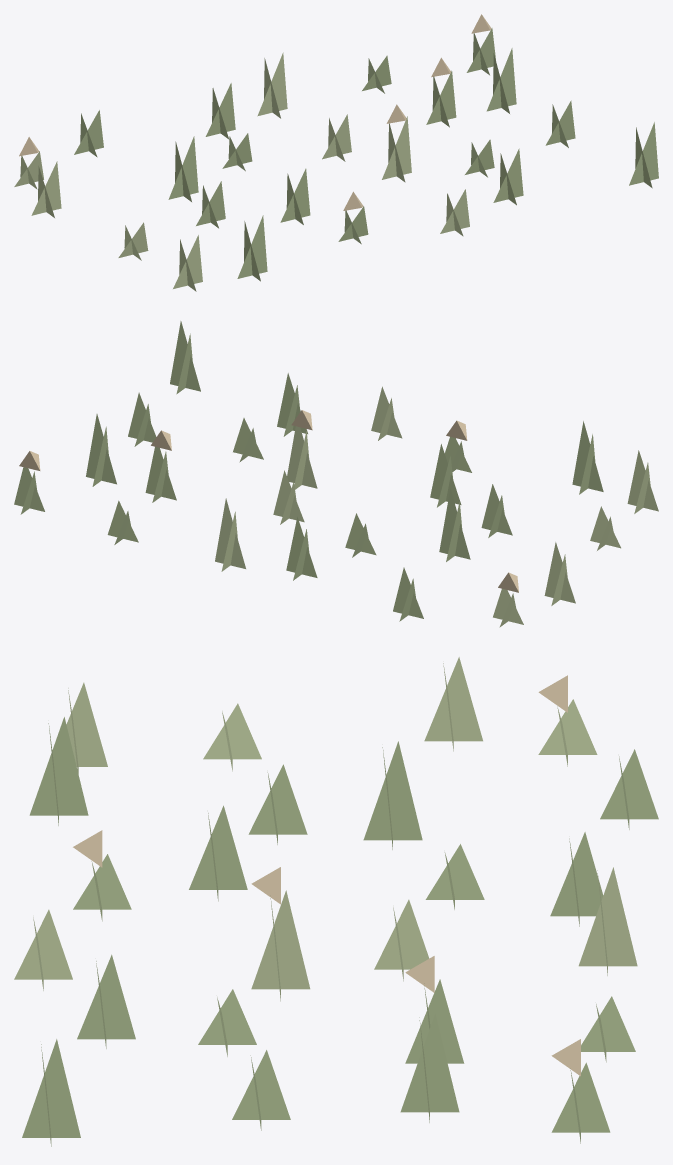
Rendered from meadow-flower-patch.glb.
The picture shows the model from 3 angles, top to bottom: view 1: azimuth 30°, elevation 25°; view 2: azimuth 150°, elevation 25°; view 3: azimuth 270°, elevation 25°; orthographic projection. The views are drawn at different scales.
Visible parts, largest first — view 1: meadow-flower-patch; view 2: meadow-flower-patch; view 3: meadow-flower-patch.
Part boxes in pixels (x1,y1,x2,y2): meadow-flower-patch: (14,14,658,291); meadow-flower-patch: (14,321,658,627); meadow-flower-patch: (14,657,658,1146).
Size of the model in its own units: 3.71 by 0.5025 by 2.4.
